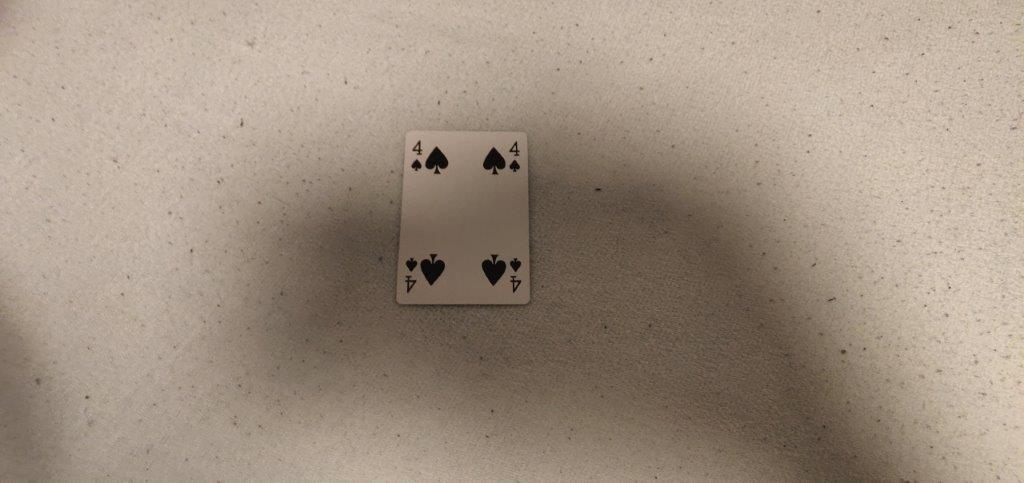4S: (407, 137, 429, 179), (506, 137, 522, 176)
